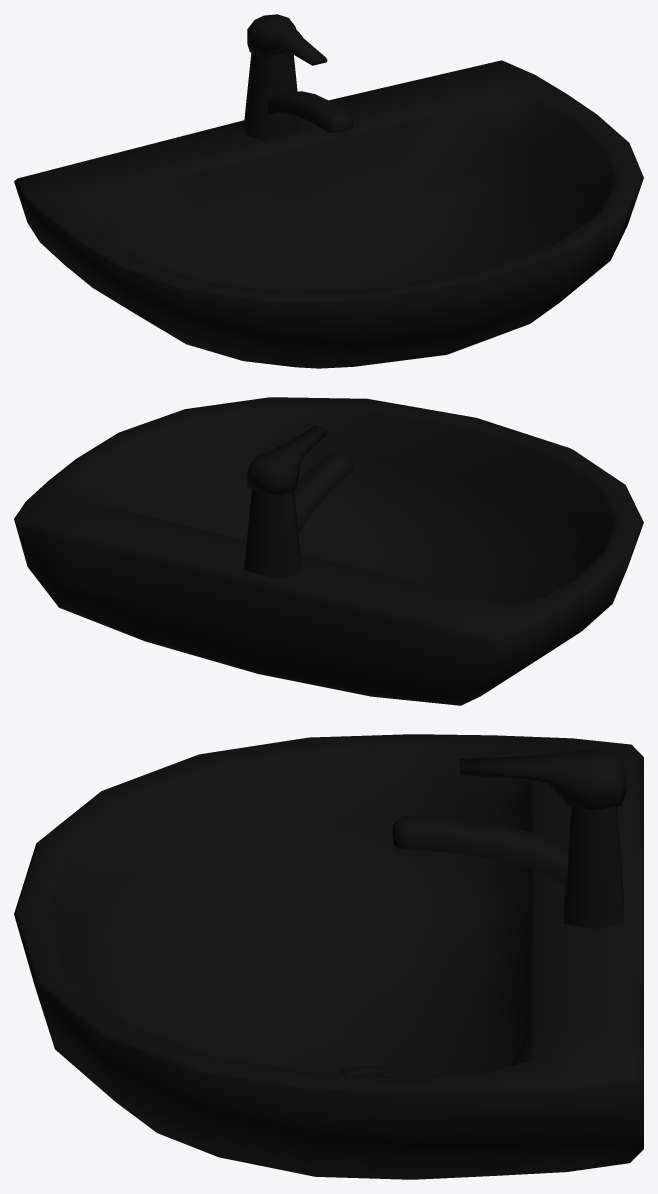
The model's file is Sink_Asset.fbx.
3 views of the same model, one above another, from view 1: azimuth 30°, elevation 25°; view 2: azimuth 150°, elevation 25°; view 3: azimuth 270°, elevation 25° (orthographic). The views are drawn at different scales.
Parts seen in each view (by area): view 1: Sink, SinkFauced; view 2: Sink, SinkFauced; view 3: Sink, SinkFauced.
Boxes of the visible parts, box(x1,y1,x2,y2) form: Sink: box(14, 60, 643, 368); SinkFauced: box(244, 14, 352, 141); Sink: box(14, 397, 643, 705); SinkFauced: box(244, 425, 352, 579); Sink: box(14, 734, 643, 1179); SinkFauced: box(392, 748, 626, 928).
Bounding box in the file's own units: 70.07 × 51.99 × 31.23.
